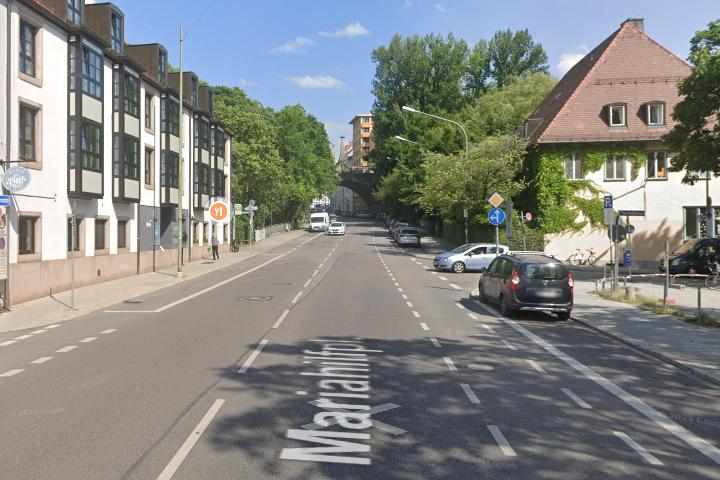google_maps: (209, 202, 227, 220)
traffic_sign: (487, 207, 506, 226), (487, 191, 505, 208), (604, 196, 612, 208)
vehicle: (475, 247, 579, 323), (657, 227, 720, 278), (432, 238, 516, 276), (394, 226, 422, 248), (307, 212, 330, 234), (326, 221, 347, 237), (325, 213, 338, 230)
